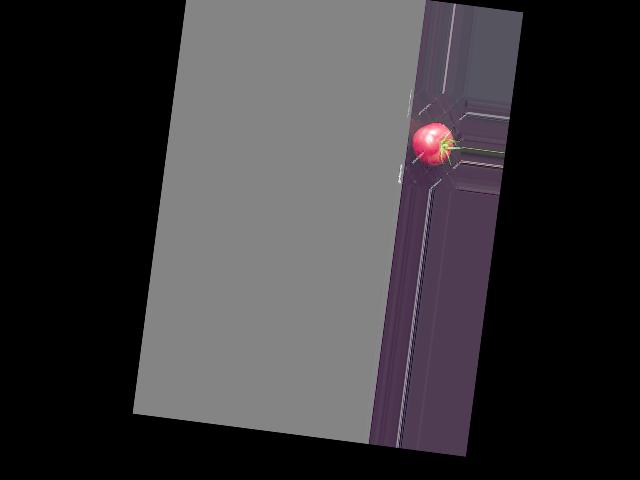tomato: (409, 119, 455, 167)
